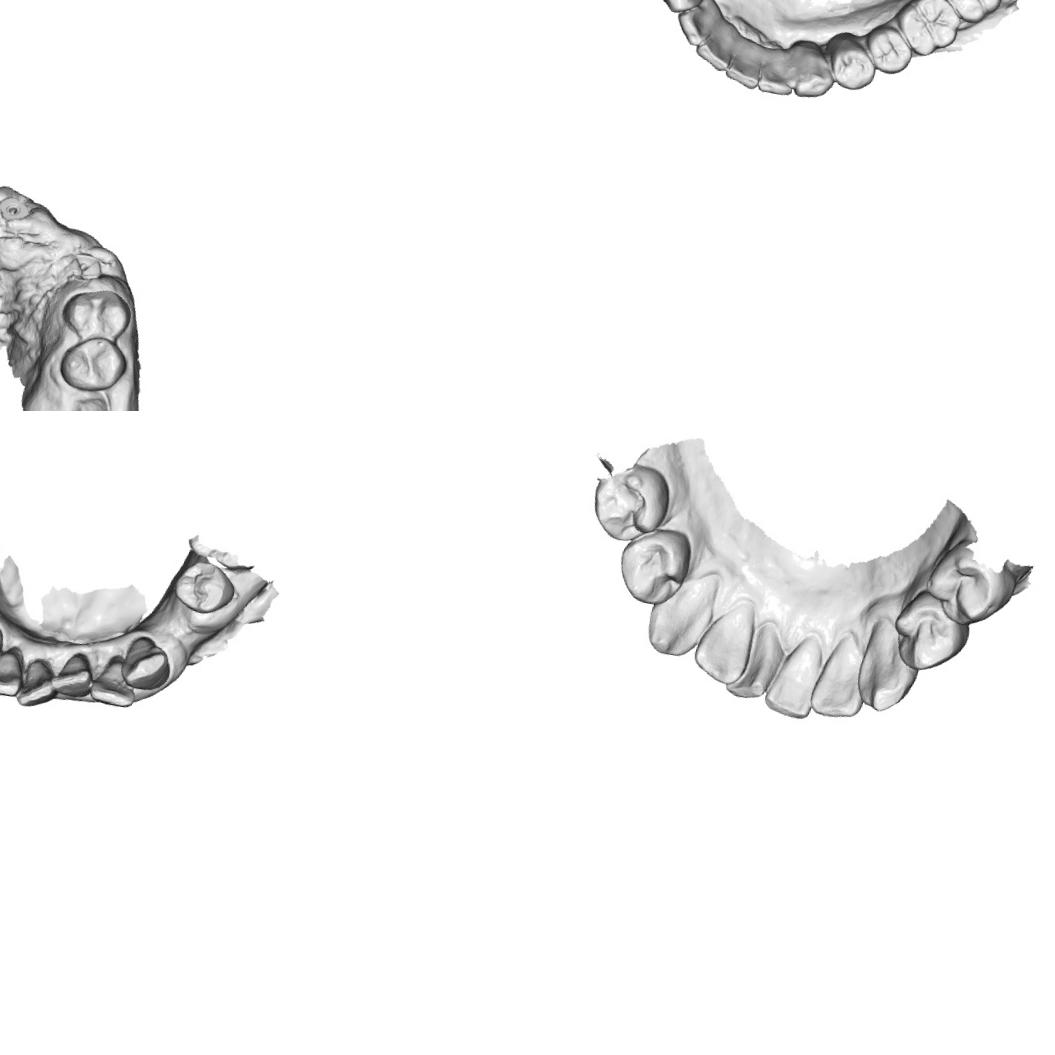canine: (641, 570, 720, 664), (850, 618, 925, 717), (118, 632, 176, 694), (788, 45, 840, 104), (649, 0, 710, 18)
implant: (0, 192, 33, 224)
incisor: (804, 633, 873, 724), (688, 602, 754, 688), (760, 638, 826, 722), (722, 616, 784, 701), (86, 651, 142, 708), (690, 17, 740, 75), (48, 648, 96, 702), (11, 659, 57, 712), (721, 38, 766, 92), (755, 48, 799, 98), (673, 0, 716, 49), (0, 642, 26, 701)
molar: (887, 0, 966, 64), (936, 0, 1008, 28)
premolar: (920, 541, 1016, 633), (585, 458, 676, 548), (884, 586, 972, 678), (611, 523, 694, 610), (55, 330, 131, 398), (57, 280, 134, 346), (168, 557, 240, 618), (857, 19, 918, 79), (823, 32, 882, 94)
